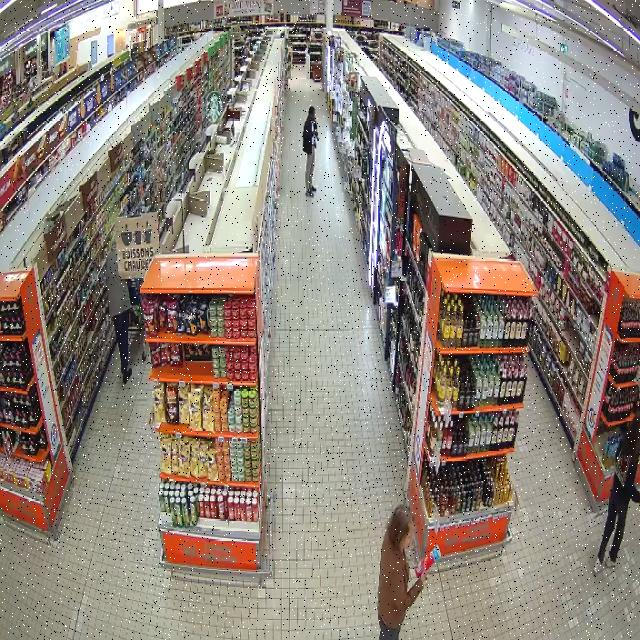article: (414, 544, 442, 578), (315, 132, 320, 141)
hands: (420, 572, 427, 584), (632, 494, 640, 504), (312, 128, 318, 135)
person: (594, 416, 639, 572), (377, 506, 425, 639), (302, 106, 318, 196)
